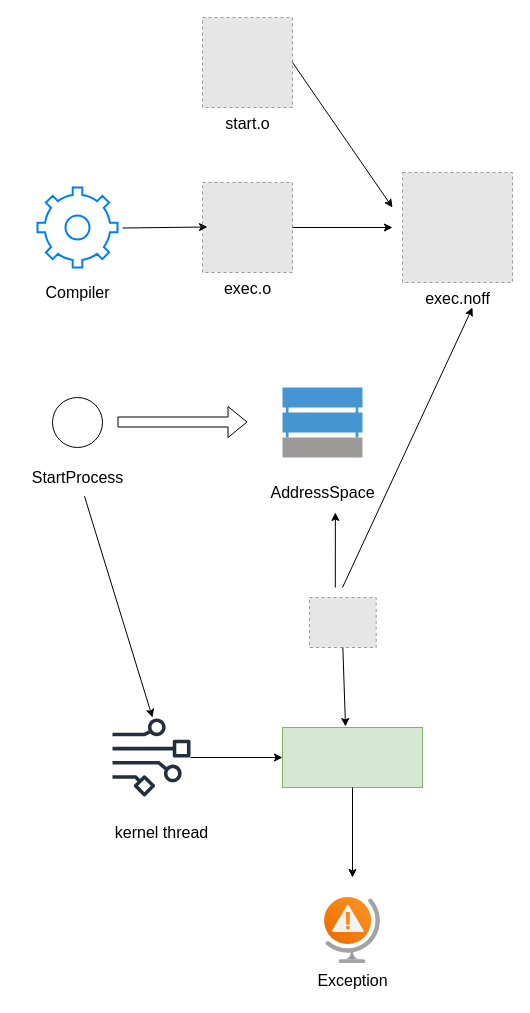
Some shapes in this 530 by 1013 pixel diagram are drawn without their labels. Grey dashed boxes stand in for pictures. Each missing label, with the box of its shape:
fn: (52, 396, 102, 448)
instruction:syscall: (282, 726, 422, 788)
